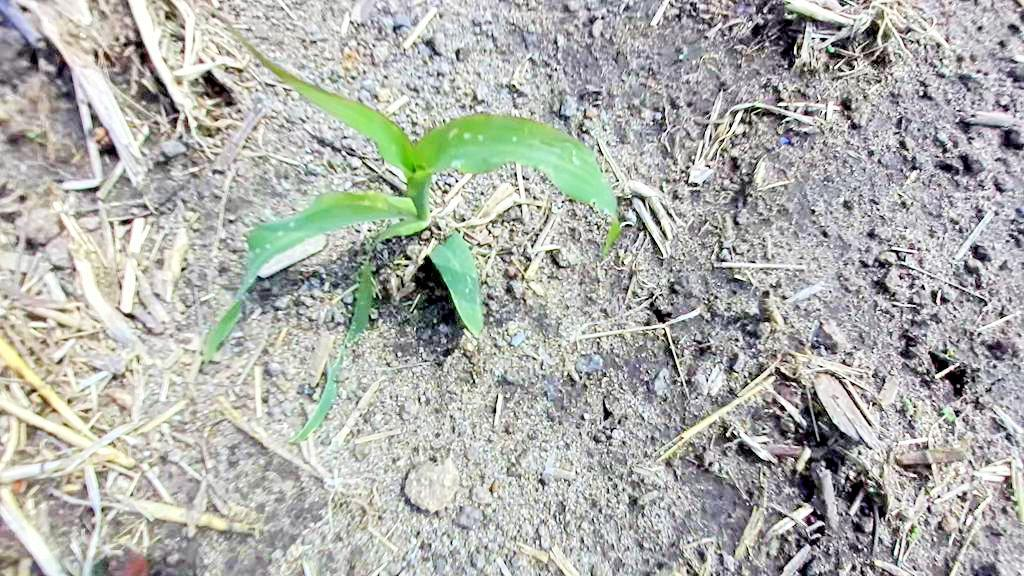BroWeed: (325, 374, 384, 454), (199, 486, 266, 534), (273, 532, 314, 576), (453, 328, 481, 354), (338, 165, 367, 189), (198, 91, 224, 117), (897, 393, 920, 421), (793, 444, 815, 473), (939, 397, 961, 423), (304, 161, 329, 182), (195, 95, 219, 114), (588, 16, 607, 39), (934, 130, 954, 151), (341, 51, 355, 79), (554, 30, 567, 59), (323, 156, 340, 177), (294, 160, 312, 178), (302, 559, 320, 576), (797, 123, 822, 135), (25, 127, 45, 140), (93, 126, 107, 143), (825, 42, 838, 56), (909, 526, 920, 541), (779, 115, 793, 124)
Maize: (102, 17, 645, 520)
